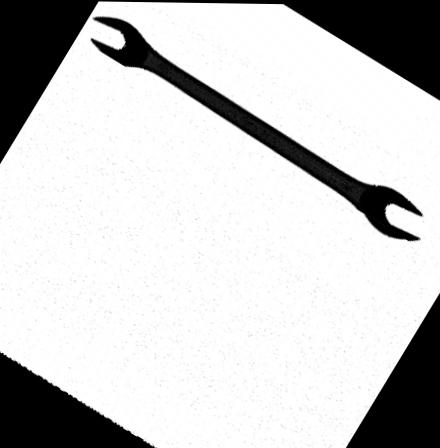Wrench: (82, 15, 426, 241)
